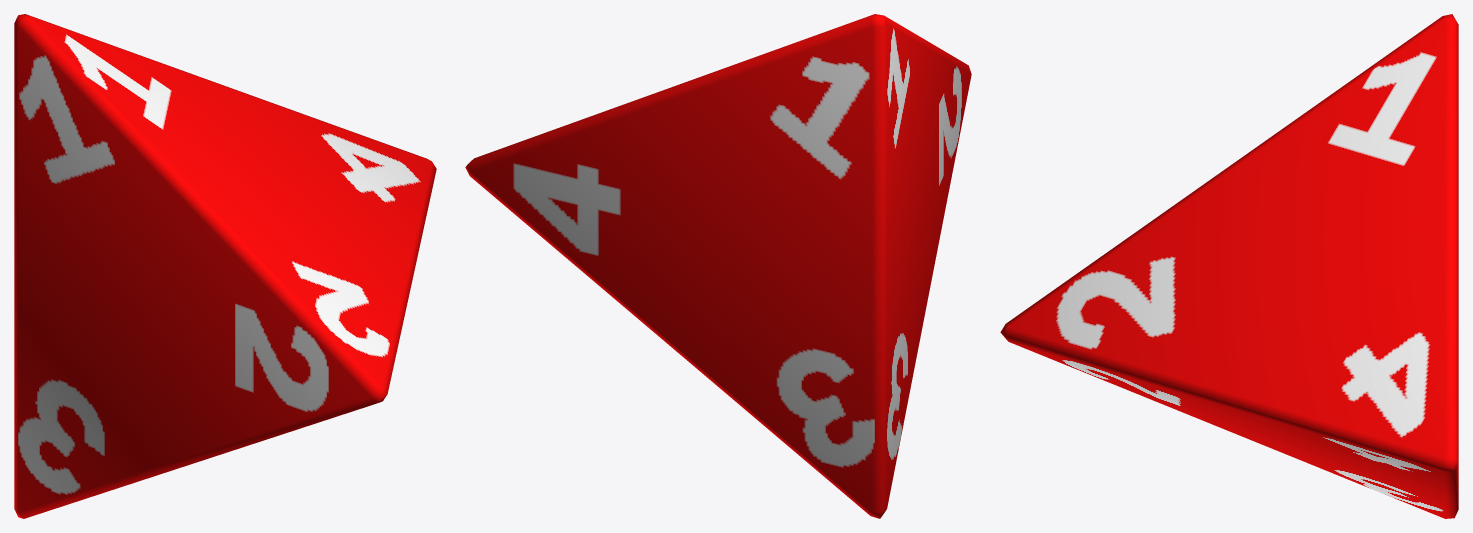
The picture shows the model from 3 angles, left to right: view 1: azimuth 30°, elevation 25°; view 2: azimuth 150°, elevation 25°; view 3: azimuth 270°, elevation 25°; orthographic projection.
Visible parts, largest first — view 1: 4Red_4Red_0; view 2: 4Red_4Red_0; view 3: 4Red_4Red_0.
Boxes of the visible parts, bbox=[...] form: 4Red_4Red_0: bbox=[14, 14, 436, 518]; 4Red_4Red_0: bbox=[465, 14, 971, 518]; 4Red_4Red_0: bbox=[1000, 14, 1458, 518].
Bounding box in the file's own units: 1.35 × 1.55 × 1.28.
Materials: 1 (1 with a texture image).
